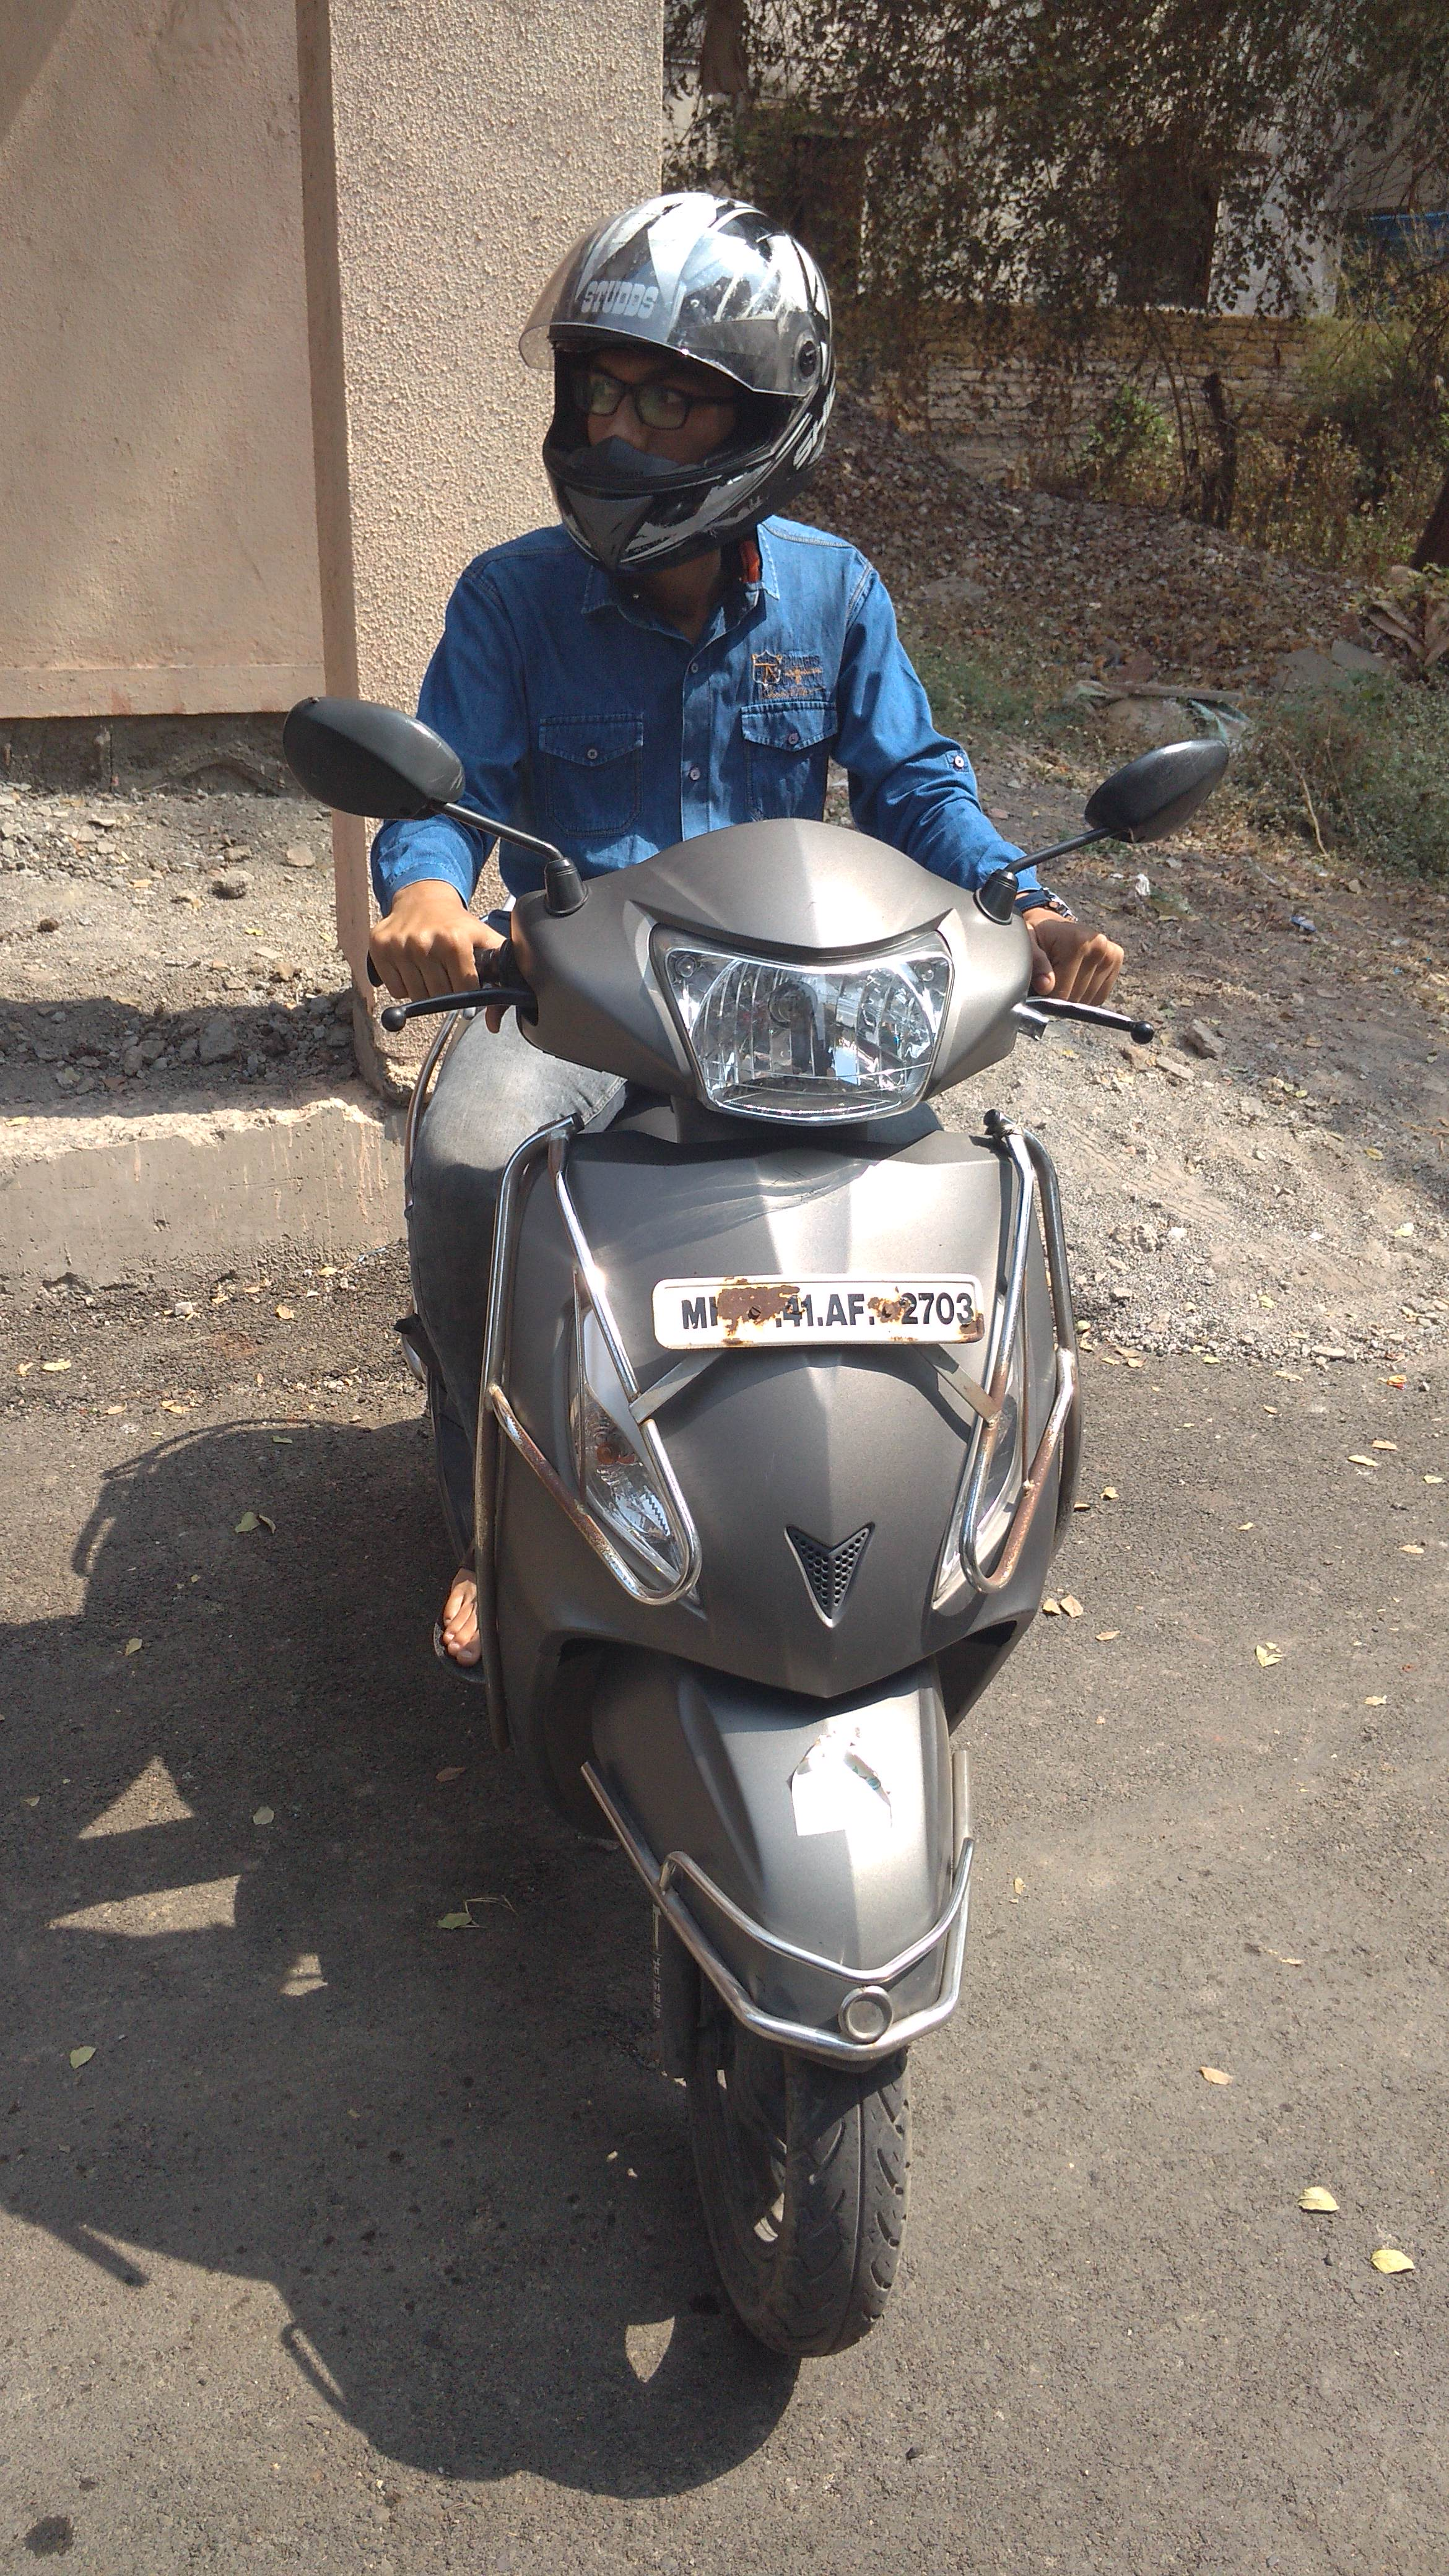helmet: (225, 161, 1270, 1622)
